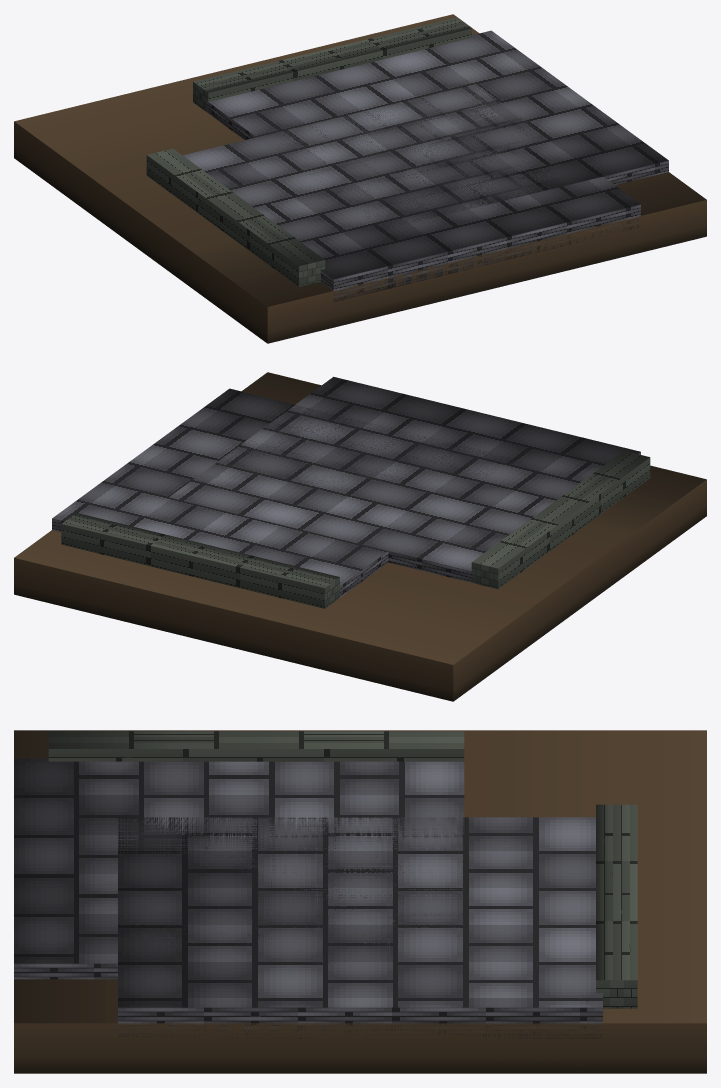
The model's file is road_corner.gltf.
3 renders of one model, top to bottom at view 1: azimuth 30°, elevation 25°; view 2: azimuth 150°, elevation 25°; view 3: azimuth 270°, elevation 25°, orthographic. The views are drawn at different scales.
Parts seen in each view (by area): view 1: road_corner; view 2: road_corner; view 3: road_corner.
Part boxes in pixels (x1,y1,x2,y2): road_corner: [14, 14, 706, 343]; road_corner: [14, 372, 706, 701]; road_corner: [14, 730, 706, 1073].
Bounding box in the file's own units: 1 × 0.125 × 1.
Materials: 1 (1 with a texture image).
